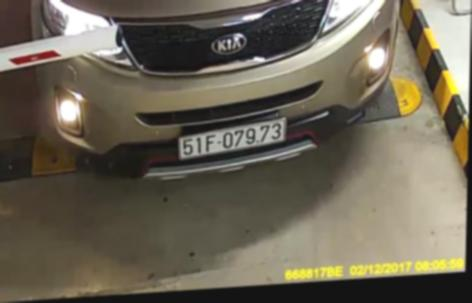License_Plate: (172, 116, 292, 163)
